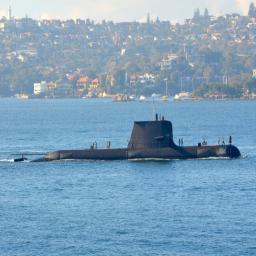submarine: (15, 120, 244, 163)
